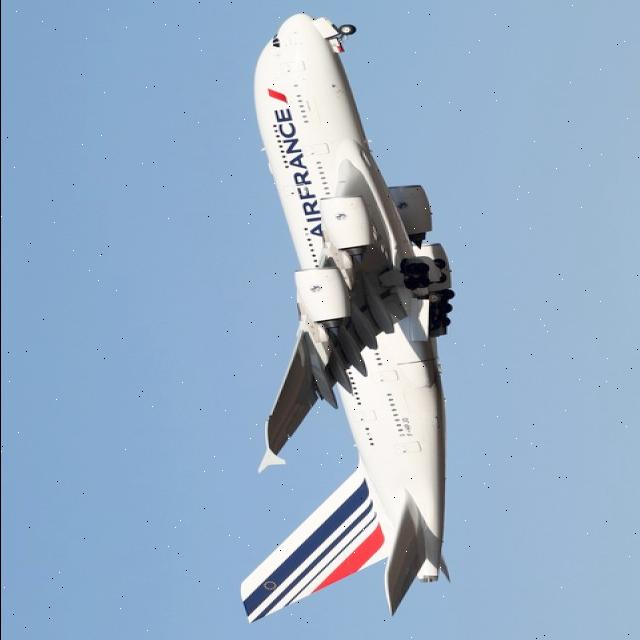aircraft: (178, 0, 504, 634)
